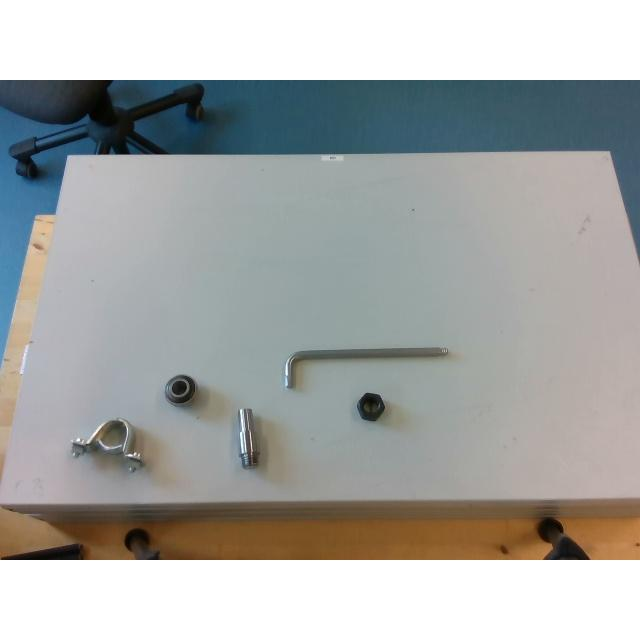AllenKey: (282, 346, 450, 389)
Axis2: (237, 408, 259, 468)
Bearing2: (165, 376, 195, 404)
Housing: (72, 418, 142, 462)
M20: (357, 393, 385, 421)
